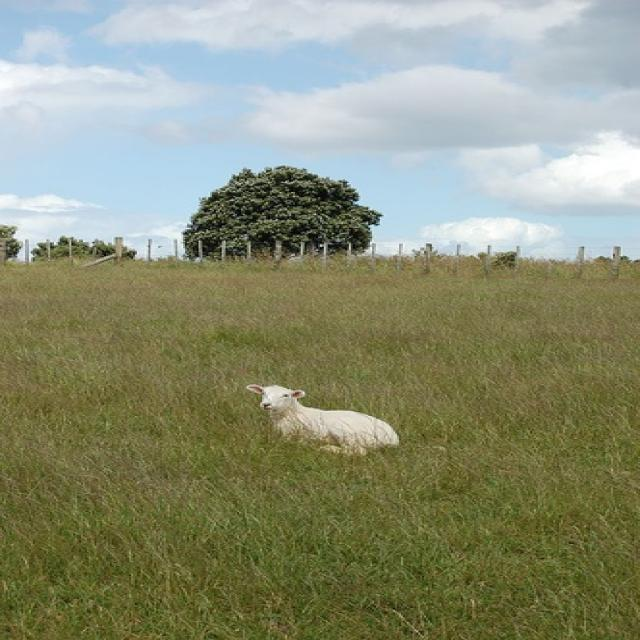sheep: (243, 385, 399, 456)
